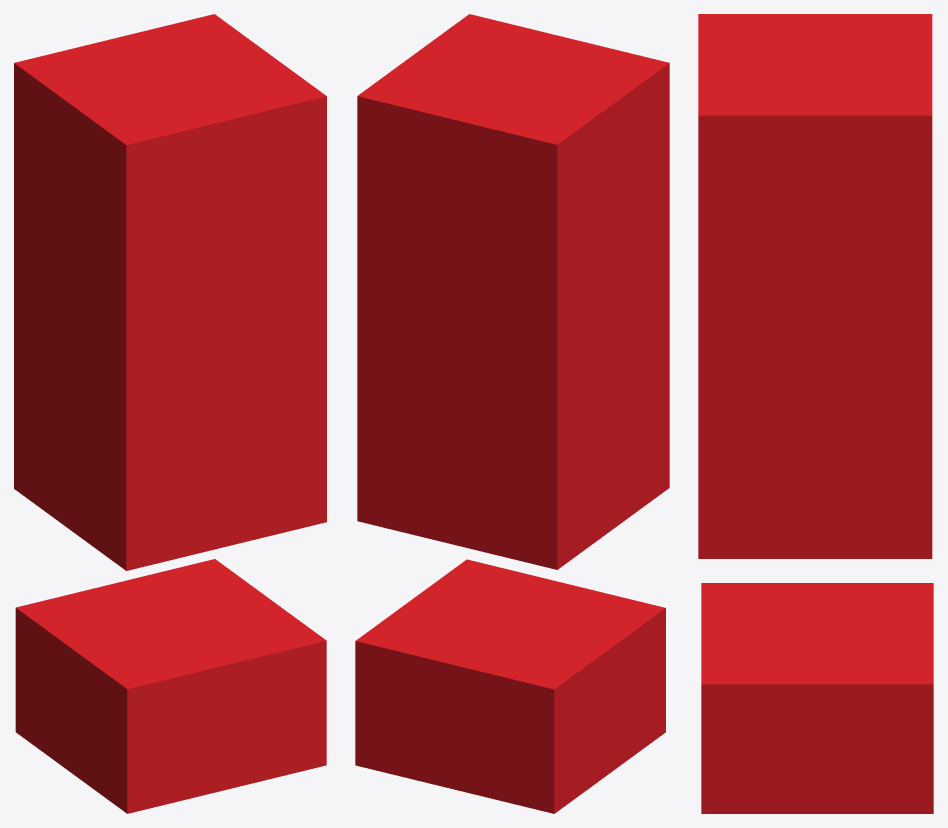
Rendered from Bikkuri_Mark.fbx.
3 renders of one model, left to right at view 1: azimuth 30°, elevation 25°; view 2: azimuth 150°, elevation 25°; view 3: azimuth 270°, elevation 25°, orthographic. The views are drawn at different scales.
Parts seen in each view (by area): view 1: Box002, Box001; view 2: Box002, Box001; view 3: Box002, Box001.
Part boxes in pixels (left/top/right/bottom): Box002: left=14, top=14, right=326, bottom=570; Box001: left=15, top=559, right=326, bottom=813; Box002: left=357, top=14, right=669, bottom=569; Box001: left=355, top=559, right=665, bottom=813; Box002: left=698, top=14, right=932, bottom=558; Box001: left=701, top=583, right=933, bottom=813.
Bounding box in the file's own units: 23.4 × 22.71 × 74.3.
2 materials, 2 textured.
